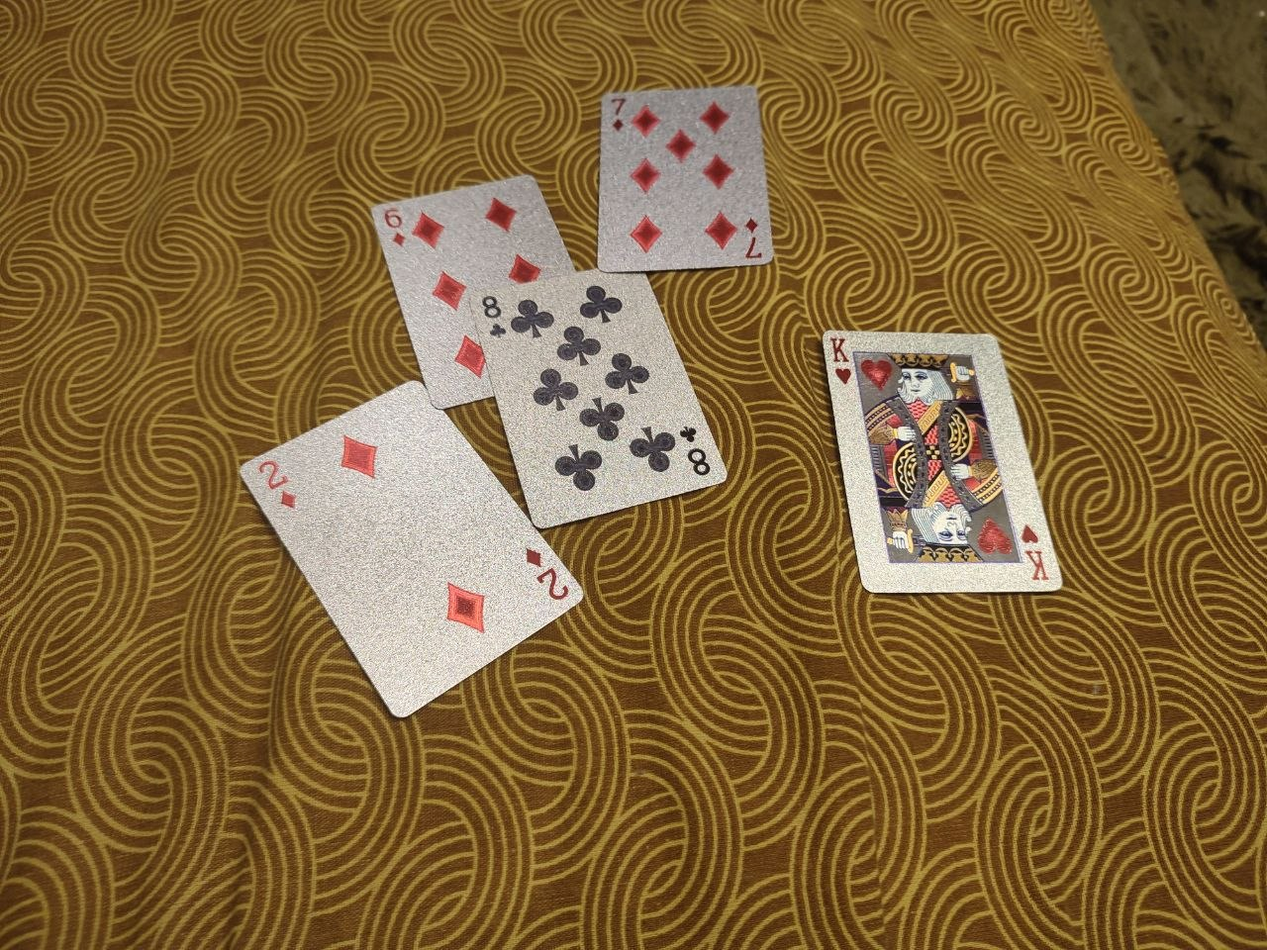2D: (238, 379, 587, 718)
6D: (370, 173, 577, 412)
7D: (591, 82, 775, 274)
8C: (472, 266, 730, 530)
KH: (820, 326, 1064, 597)
